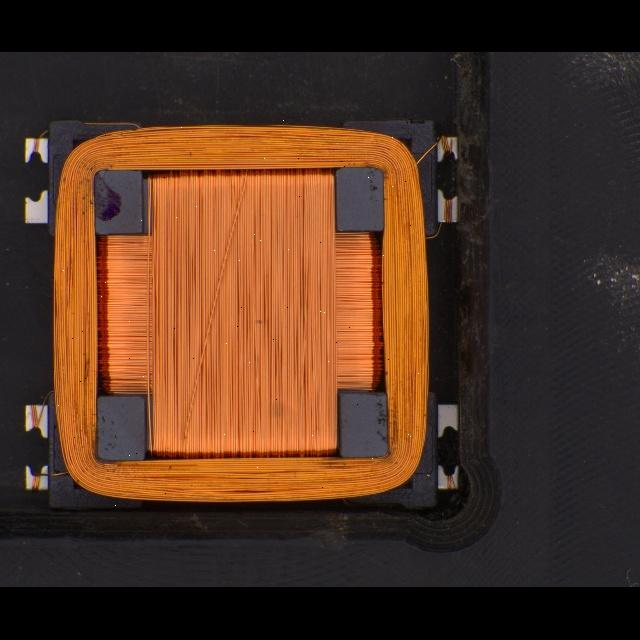Winding_Z: (49, 120, 437, 506)
